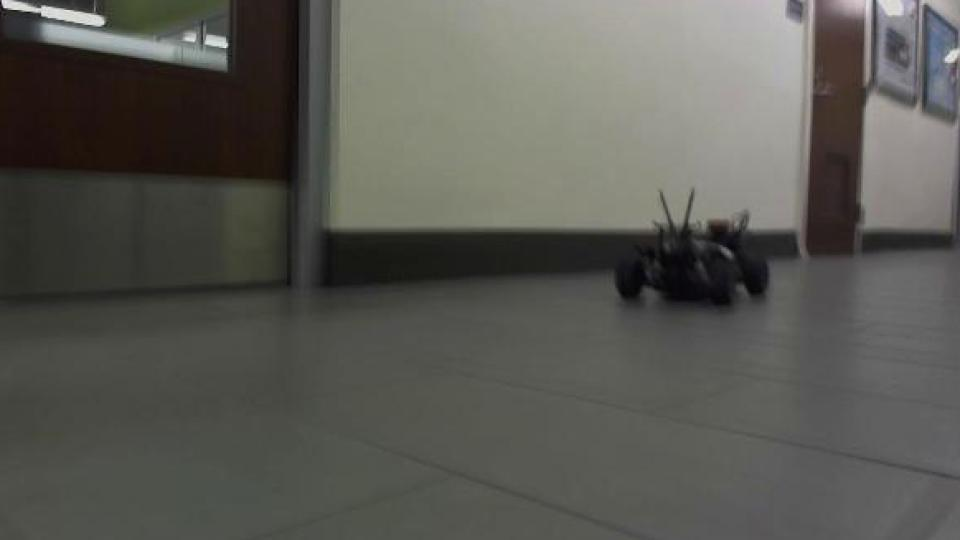car: (612, 184, 774, 310)
